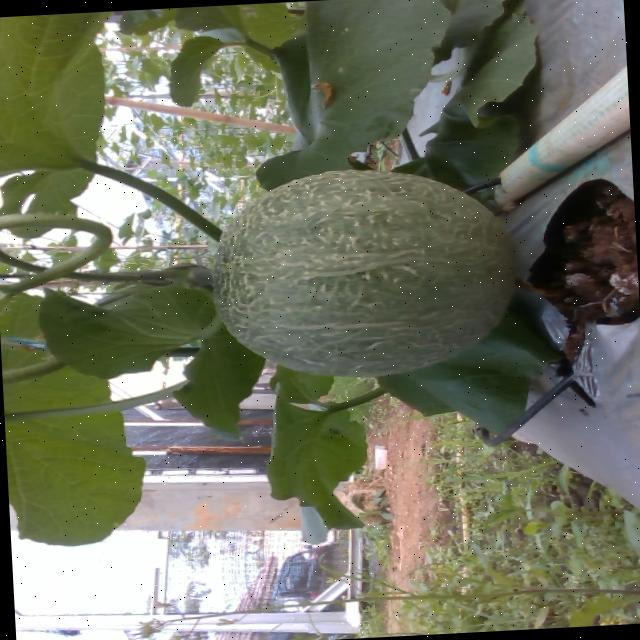melon: (213, 169, 515, 374)
